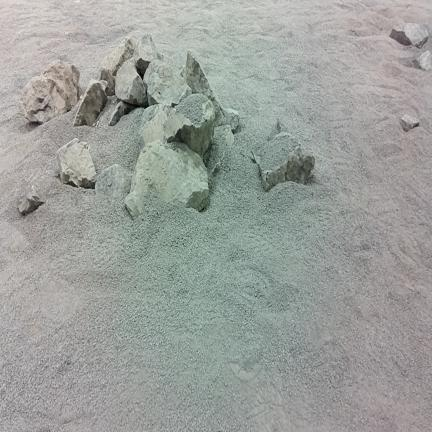Rock: (125, 140, 208, 219), (20, 60, 79, 123), (253, 133, 314, 190), (183, 51, 225, 126), (165, 93, 215, 156), (144, 60, 192, 106), (57, 139, 96, 188), (138, 105, 173, 150), (74, 80, 107, 126), (116, 59, 147, 106), (102, 36, 138, 76), (95, 164, 131, 200), (134, 34, 163, 76), (390, 23, 428, 47), (18, 185, 45, 215), (109, 101, 136, 125), (404, 23, 428, 48), (100, 68, 115, 96), (224, 109, 240, 133), (413, 51, 432, 70), (401, 114, 419, 131)
